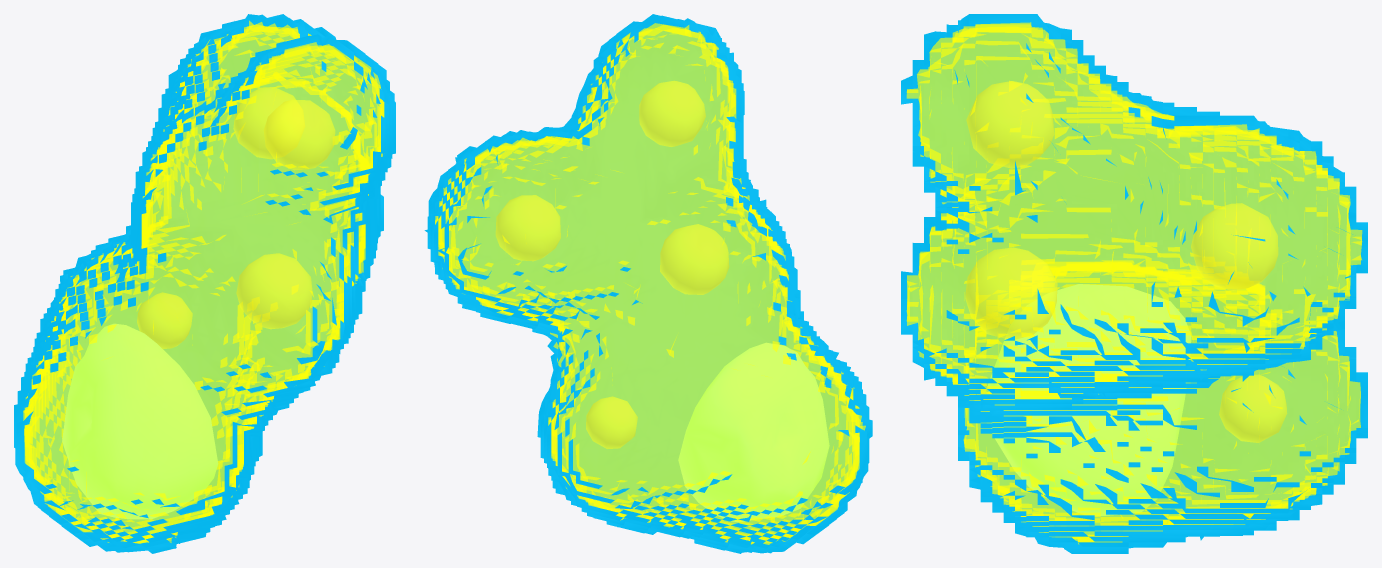
The model's file is migrant.glb.
The picture shows the model from 3 angles, left to right: view 1: azimuth 30°, elevation 25°; view 2: azimuth 150°, elevation 25°; view 3: azimuth 270°, elevation 25°; orthographic projection. The views are drawn at different scales.
Parts seen in each view (by area): view 1: migrant.001; view 2: migrant.001; view 3: migrant.001.
Boxes of the visible parts, left/top/right/bottom form: migrant.001: left=14, top=14, right=395, bottom=553; migrant.001: left=424, top=14, right=872, bottom=553; migrant.001: left=901, top=14, right=1367, bottom=553.
Bounding box in the file's own units: 2.77 × 3.36 × 2.42.
